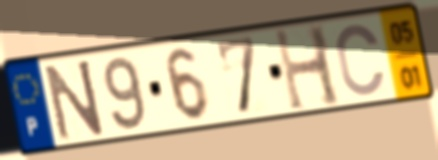6: (163, 44, 212, 124)
7: (213, 33, 260, 119)
9: (99, 54, 150, 132)
C: (333, 21, 388, 99)
H: (272, 22, 345, 115)
N: (41, 56, 108, 144)
